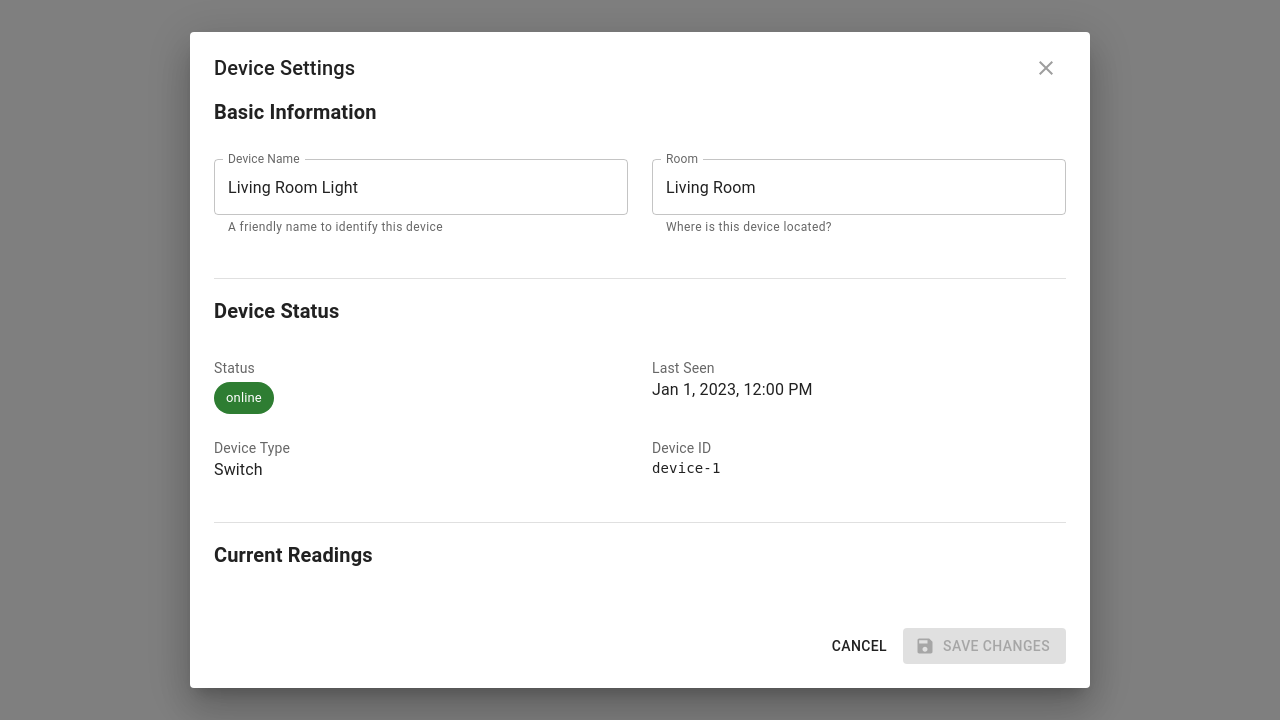
Test case: DeviceSettingsDialog › allows editing device name
Replace the text in the field showing "Living Room Light" with "New Device Name" at (421,187), box [214,159,628,215]
(page scrolled)
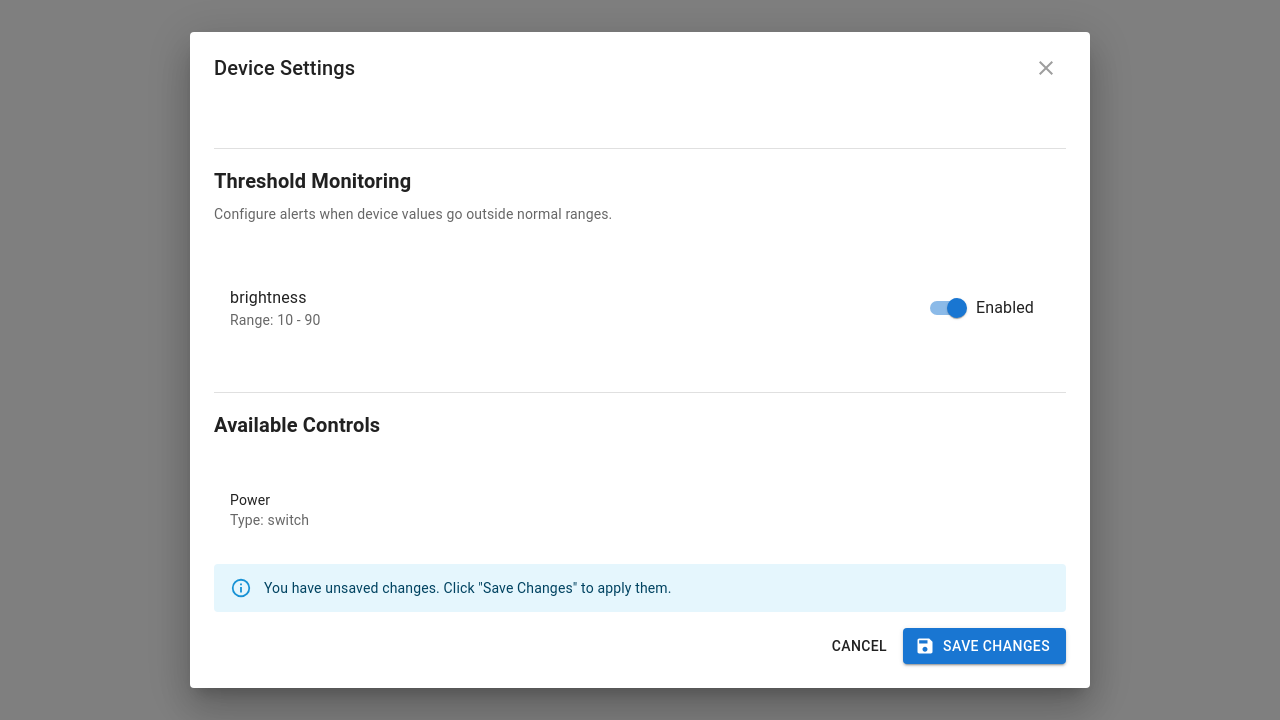
Check: the text "You have unsaved changes" is shown, box [264,580,672,596]
